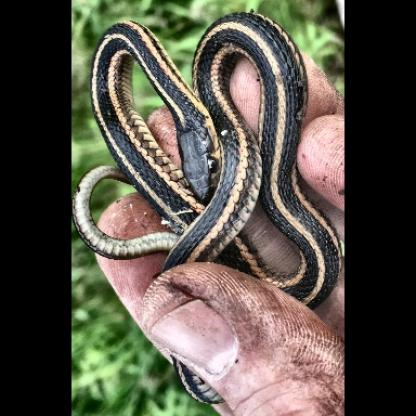Snake: (84, 13, 335, 290)
